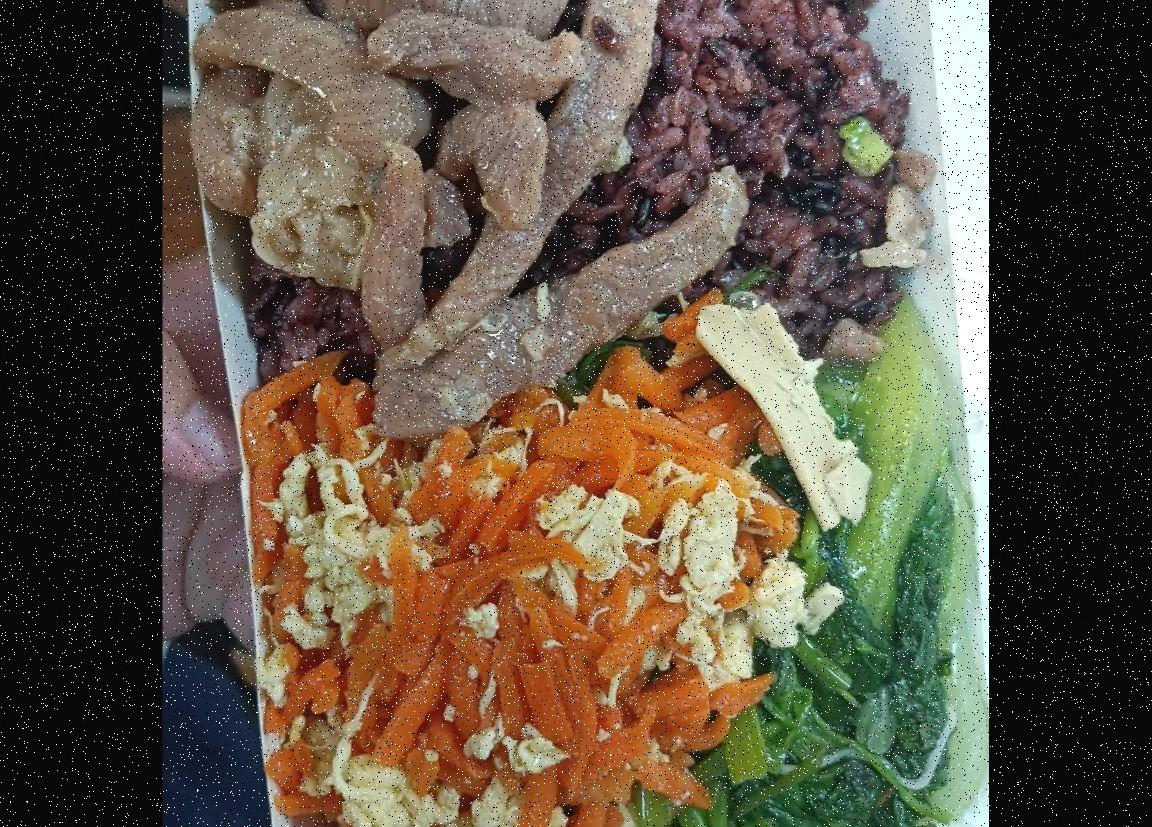box: (182, 0, 953, 827)
pork with scrambled eggs: (190, 0, 745, 434)
purple rice: (572, 0, 909, 379)
side dish: (252, 370, 765, 827), (601, 330, 965, 827)
